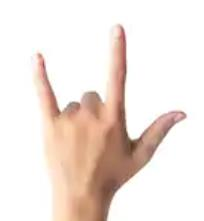back: (30, 22, 189, 194)
